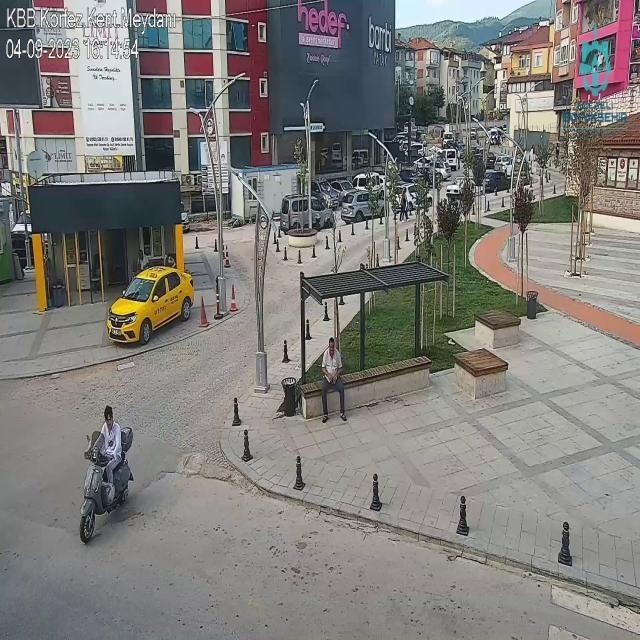Car: (99, 249, 195, 368), (386, 182, 438, 216), (341, 190, 386, 223), (446, 177, 476, 200), (327, 178, 358, 200), (483, 170, 509, 192), (494, 155, 514, 176), (180, 203, 189, 233)
Cycle: (75, 408, 145, 551)
Van: (280, 194, 334, 234)
